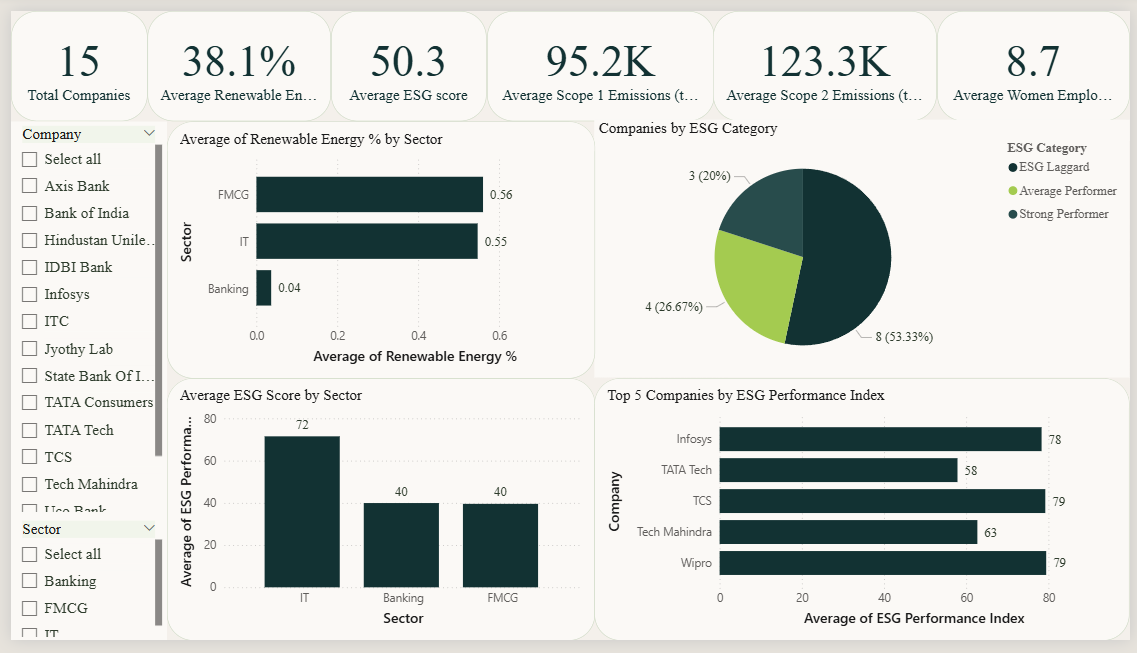

The dashboard page shown, as its layout file describes it:
{"tool":"powerbi","page":{"name":"Executive Dashboard","canvas":[1280,720],"ordinal":0},"visuals":[{"type":"card","fields":{"Values":["brsr_data.Total Companies"]},"box":[0,0,156,126],"z":0},{"type":"card","fields":{"Values":["brsr_data.Average ESG score"]},"box":[366,0,178,126],"z":1000},{"type":"card","fields":{"Values":["brsr_data.Average Renewable Energy"]},"box":[156,0,210,126],"z":2000},{"type":"card","fields":{"Values":["brsr_data.Average Scope 1"]},"box":[544,0,260,126],"z":3000},{"type":"card","fields":{"Values":["brsr_data.Average Scope 2"]},"box":[804,0,256,126],"z":4000},{"type":"card","fields":{"Values":["brsr_data.Average Women Employees"]},"box":[1060,0,220,126],"z":5000},{"type":"clusteredColumnChart","title":"Average ESG Score by Sector","fields":{"Category":["brsr_data.Sector"],"Y":["Avg(brsr_data.ESG Performance Index)"]},"box":[178,420,490,300],"z":6000},{"type":"clusteredBarChart","title":"Top 5 Companies by ESG Performance Index","fields":{"Category":["brsr_data.Company"],"Y":["Avg(brsr_data.ESG Performance Index)"]},"box":[668,420,612,300],"z":7000},{"type":"pieChart","title":"Companies by ESG Category","fields":{"Category":["brsr_data.ESG Category"],"Y":["CountNonNull(brsr_data.Company)"]},"box":[667.5,125,612.5,295],"z":8000},{"type":"clusteredBarChart","fields":{"Category":["brsr_data.Sector"],"Y":["Avg(brsr_data.Renewable Energy %)"]},"box":[178,126,490,294],"z":9000},{"type":"slicer","fields":{"Values":["brsr_data.Sector"]},"box":[0,578,178,142],"z":10000},{"type":"slicer","fields":{"Values":["brsr_data.Company"]},"box":[0,126,178,452],"z":11000}]}

Visuals, with their boxes in screenshot pixels (x1, y1, x2, y2), scaled from the page's 1280x720 canvas onto the 1137x653 screenshot:
card - brsr_data.Total Companies: x1=0 y1=0 x2=139 y2=114
card - brsr_data.Average ESG score: x1=325 y1=0 x2=483 y2=114
card - brsr_data.Average Renewable Energy: x1=139 y1=0 x2=325 y2=114
card - brsr_data.Average Scope 1: x1=483 y1=0 x2=714 y2=114
card - brsr_data.Average Scope 2: x1=714 y1=0 x2=942 y2=114
card - brsr_data.Average Women Employees: x1=942 y1=0 x2=1136 y2=114
"Average ESG Score by Sector" clusteredColumnChart: x1=158 y1=381 x2=593 y2=652
"Top 5 Companies by ESG Performance Index" clusteredBarChart: x1=593 y1=381 x2=1136 y2=652
"Companies by ESG Category" pieChart: x1=593 y1=113 x2=1136 y2=381
clusteredBarChart - brsr_data.Sector x Avg(brsr_data.Renewable Energy %): x1=158 y1=114 x2=593 y2=381
slicer - brsr_data.Sector: x1=0 y1=524 x2=158 y2=652
slicer - brsr_data.Company: x1=0 y1=114 x2=158 y2=524
